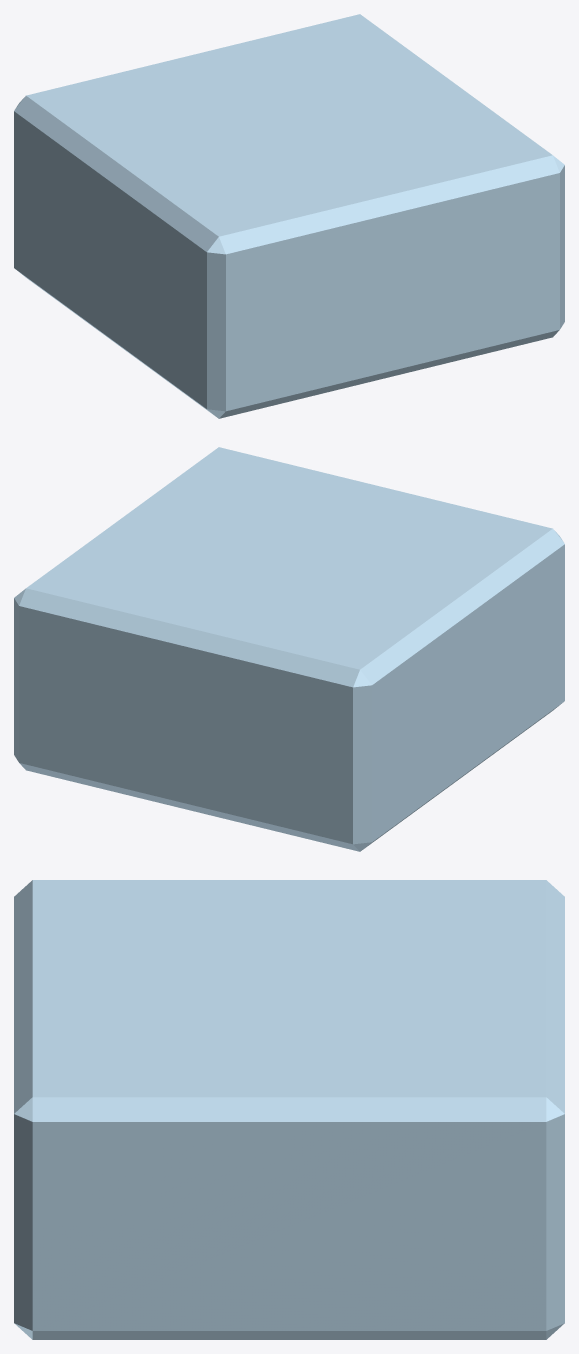
The model's file is R4B_Slab2x2.fbx.
3 renders of one model, top to bottom at view 1: azimuth 30°, elevation 25°; view 2: azimuth 150°, elevation 25°; view 3: azimuth 270°, elevation 25°, orthographic. The views are drawn at different scales.
Visible parts, largest first — view 1: R4B_Slab2x2; view 2: R4B_Slab2x2; view 3: R4B_Slab2x2.
Part boxes in pixels (x1,y1,x2,y2): R4B_Slab2x2: (14, 14, 564, 418); R4B_Slab2x2: (14, 447, 564, 851); R4B_Slab2x2: (14, 880, 564, 1339).
Size of the model in its own units: 1.07 by 0.52 by 1.07.
